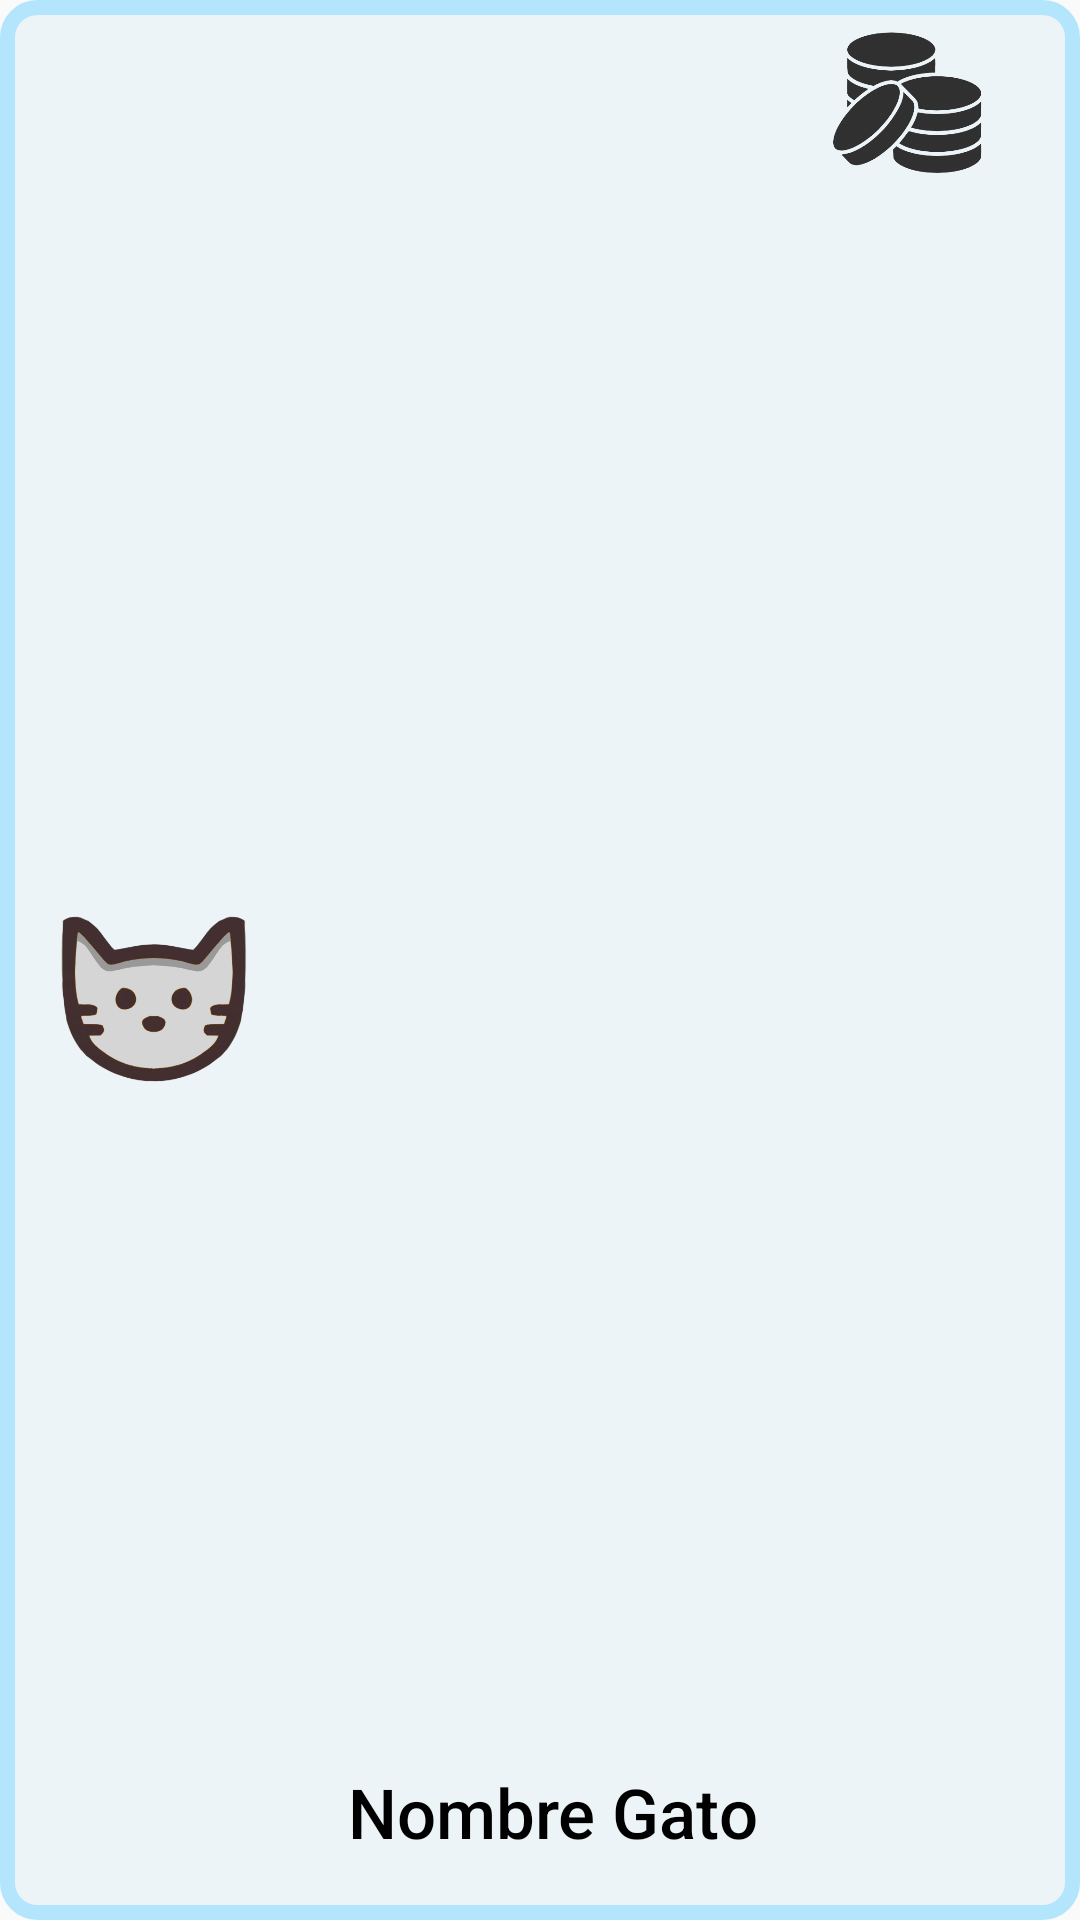

Screen size 1080px x 1920px. Icon name, then its box in pixels as (x1, y1, x2, y2):
coins: (833, 32, 982, 173)
gato gris: (61, 917, 246, 1082)
